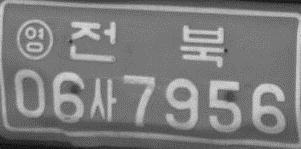0: (13, 68, 45, 120)
5: (207, 79, 243, 134)
6: (250, 82, 287, 135), (50, 70, 85, 125)
7: (122, 73, 156, 128)
9: (164, 76, 199, 131)
사: (88, 77, 117, 123)
영: (16, 18, 53, 60)
전북_D: (69, 19, 224, 68)
